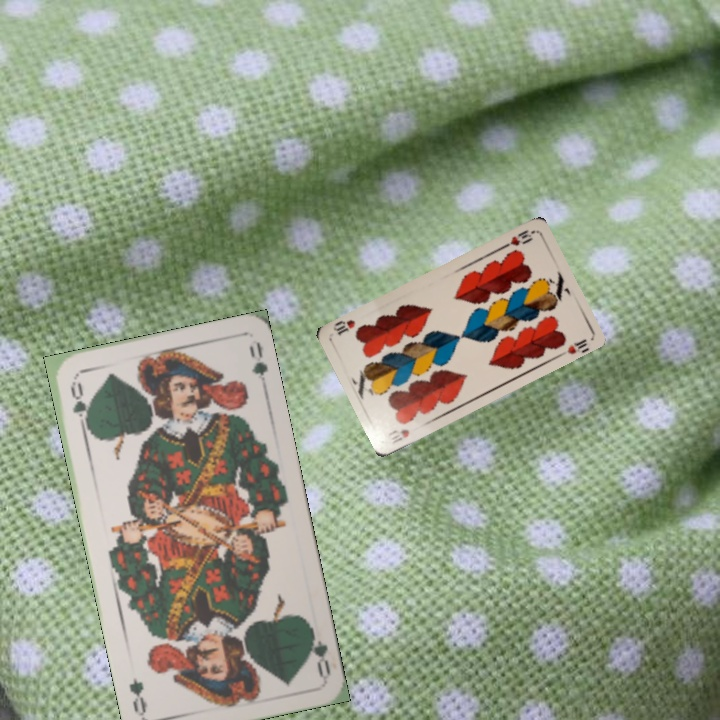GO: (304, 622, 333, 680), (66, 377, 94, 434)
H10: (497, 225, 536, 252), (383, 425, 412, 446)
